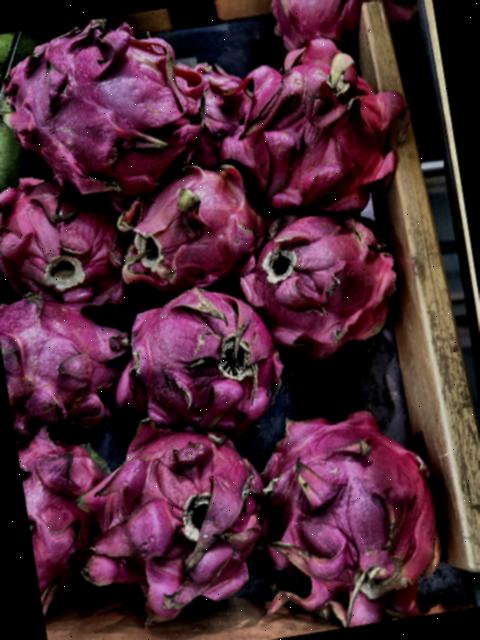buah-naga-matang: (248, 388, 455, 626), (0, 4, 217, 204), (82, 405, 272, 632), (218, 36, 415, 226), (113, 261, 304, 438), (237, 194, 398, 366), (0, 277, 139, 432), (0, 159, 135, 314), (15, 418, 123, 606), (128, 154, 266, 284), (265, 0, 386, 51)
